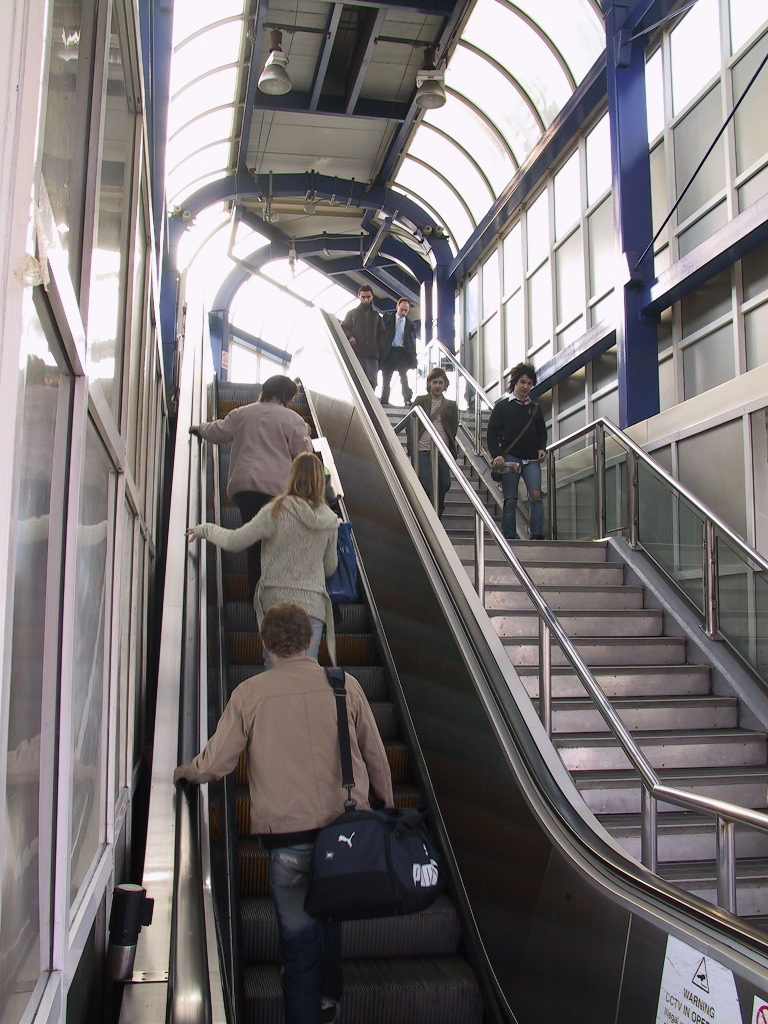Person: (186, 370, 315, 593), (484, 358, 554, 538), (405, 369, 458, 516), (377, 297, 417, 405), (342, 285, 385, 382)
